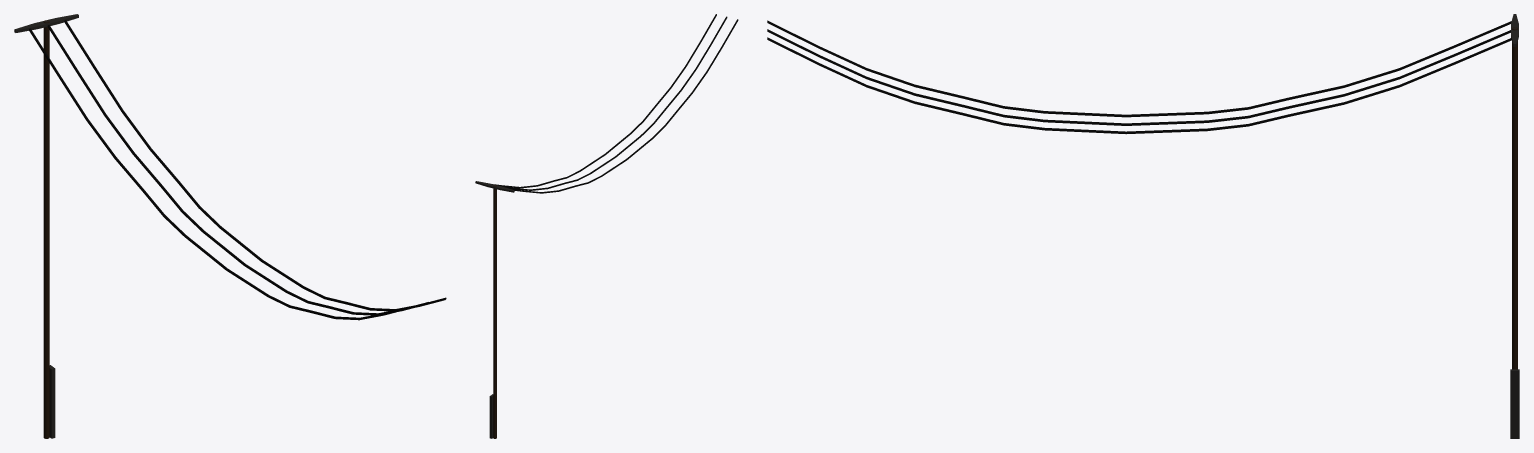
Rendered from SM_electircpylon01.FBX.
3 views of the same model, side by side, from view 1: azimuth 30°, elevation 25°; view 2: azimuth 150°, elevation 25°; view 3: azimuth 270°, elevation 25° (orthographic). The views are drawn at different scales.
Parts seen in each view (by area): view 1: electircpylon01; view 2: electircpylon01; view 3: electircpylon01.
Boxes of the visible parts, x1,y1,x2,y2 form: electircpylon01: (14, 14, 446, 438); electircpylon01: (475, 14, 738, 438); electircpylon01: (767, 14, 1519, 438).
Size of the model in its own units: 95.2 by 600 by 1004.
